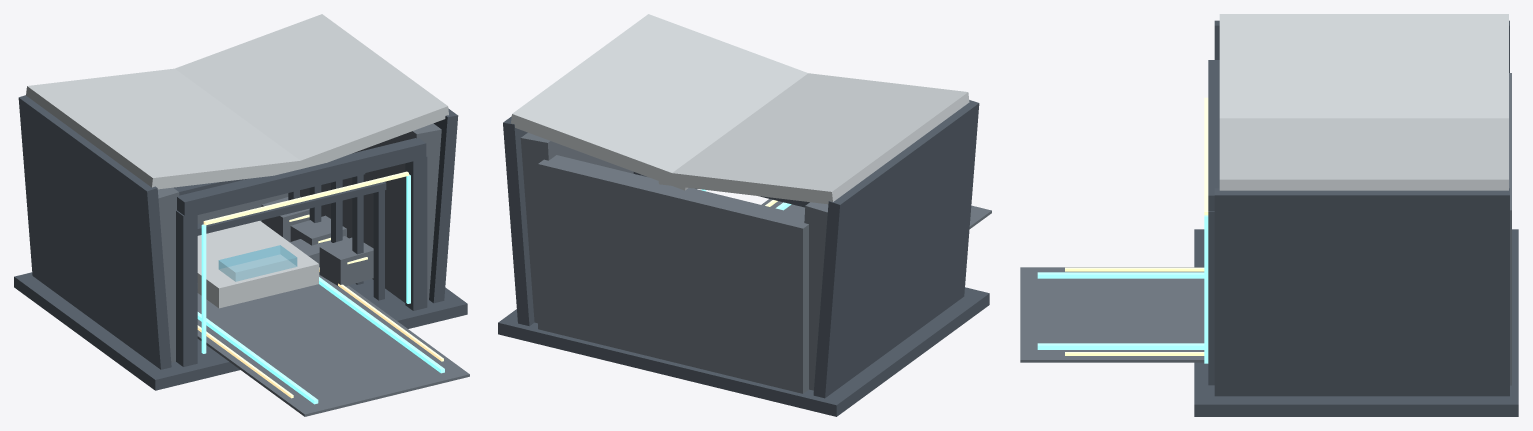
The model's file is expedition-hangar-lod0.81bbc30a989b.glb.
3 views of the same model, side by side, from view 1: azimuth 30°, elevation 25°; view 2: azimuth 150°, elevation 25°; view 3: azimuth 270°, elevation 25° (orthographic). The views are drawn at different scales.
Parts seen in each view (by area): view 1: hangar_outer_rib_-1, roof_right, departure_lane, roof_left, hangar_foundation, expedition_craft_body, hangar_side_wall_1, launch_header, launch_frame_-1, hangar_outer_rib_1, launch_frame_1, hangar_side_wall_-1 (+16 smaller); view 2: hangar_back, hangar_outer_rib_-1, roof_right, roof_left, hangar_foundation, hangar_outer_rib_1, hangar_side_wall_1, hangar_side_wall_-1, departure_lane; view 3: hangar_outer_rib_1, roof_left, roof_right, departure_lane, hangar_foundation, launch_header, launch_frame_1, departure_rail_-1, departure_rail_1, launch_light_side_1, hangar_back, departure_warning_-1 (+2 smaller).
Part boxes in pixels (x1,y1,x2,y2): hangar_outer_rib_-1: [18, 95, 171, 369]; roof_right: [175, 14, 448, 167]; departure_lane: [197, 264, 469, 416]; roof_left: [26, 68, 313, 189]; hangar_foundation: [14, 272, 467, 390]; expedition_craft_body: [197, 221, 318, 308]; hangar_side_wall_1: [300, 123, 441, 302]; launch_header: [177, 138, 426, 216]; launch_frame_-1: [176, 210, 197, 366]; hangar_outer_rib_1: [429, 108, 458, 303]; launch_frame_1: [405, 156, 427, 310]; hangar_side_wall_-1: [157, 187, 179, 362]; hangar_back: [538, 155, 808, 393]; hangar_outer_rib_-1: [813, 100, 979, 398]; roof_right: [511, 14, 807, 190]; roof_left: [657, 73, 969, 204]; hangar_foundation: [498, 287, 989, 416]; hangar_outer_rib_1: [503, 116, 534, 326]; hangar_side_wall_1: [520, 132, 648, 323]; hangar_side_wall_-1: [804, 202, 828, 390]; departure_lane: [761, 199, 991, 228]; hangar_outer_rib_1: [1214, 188, 1509, 396]; roof_left: [1219, 14, 1508, 118]; roof_right: [1219, 118, 1508, 190]; departure_lane: [1020, 267, 1204, 362]; hangar_foundation: [1194, 229, 1518, 416]; launch_header: [1208, 60, 1219, 211]; launch_frame_1: [1208, 211, 1214, 385]; departure_rail_-1: [1037, 272, 1204, 278]; departure_rail_1: [1037, 343, 1204, 349]; launch_light_side_1: [1204, 215, 1208, 363]; hangar_back: [1509, 73, 1511, 385]; departure_warning_-1: [1065, 267, 1204, 271].
Bounding box in the file's own units: 10.6 × 6.56 × 12.75.
